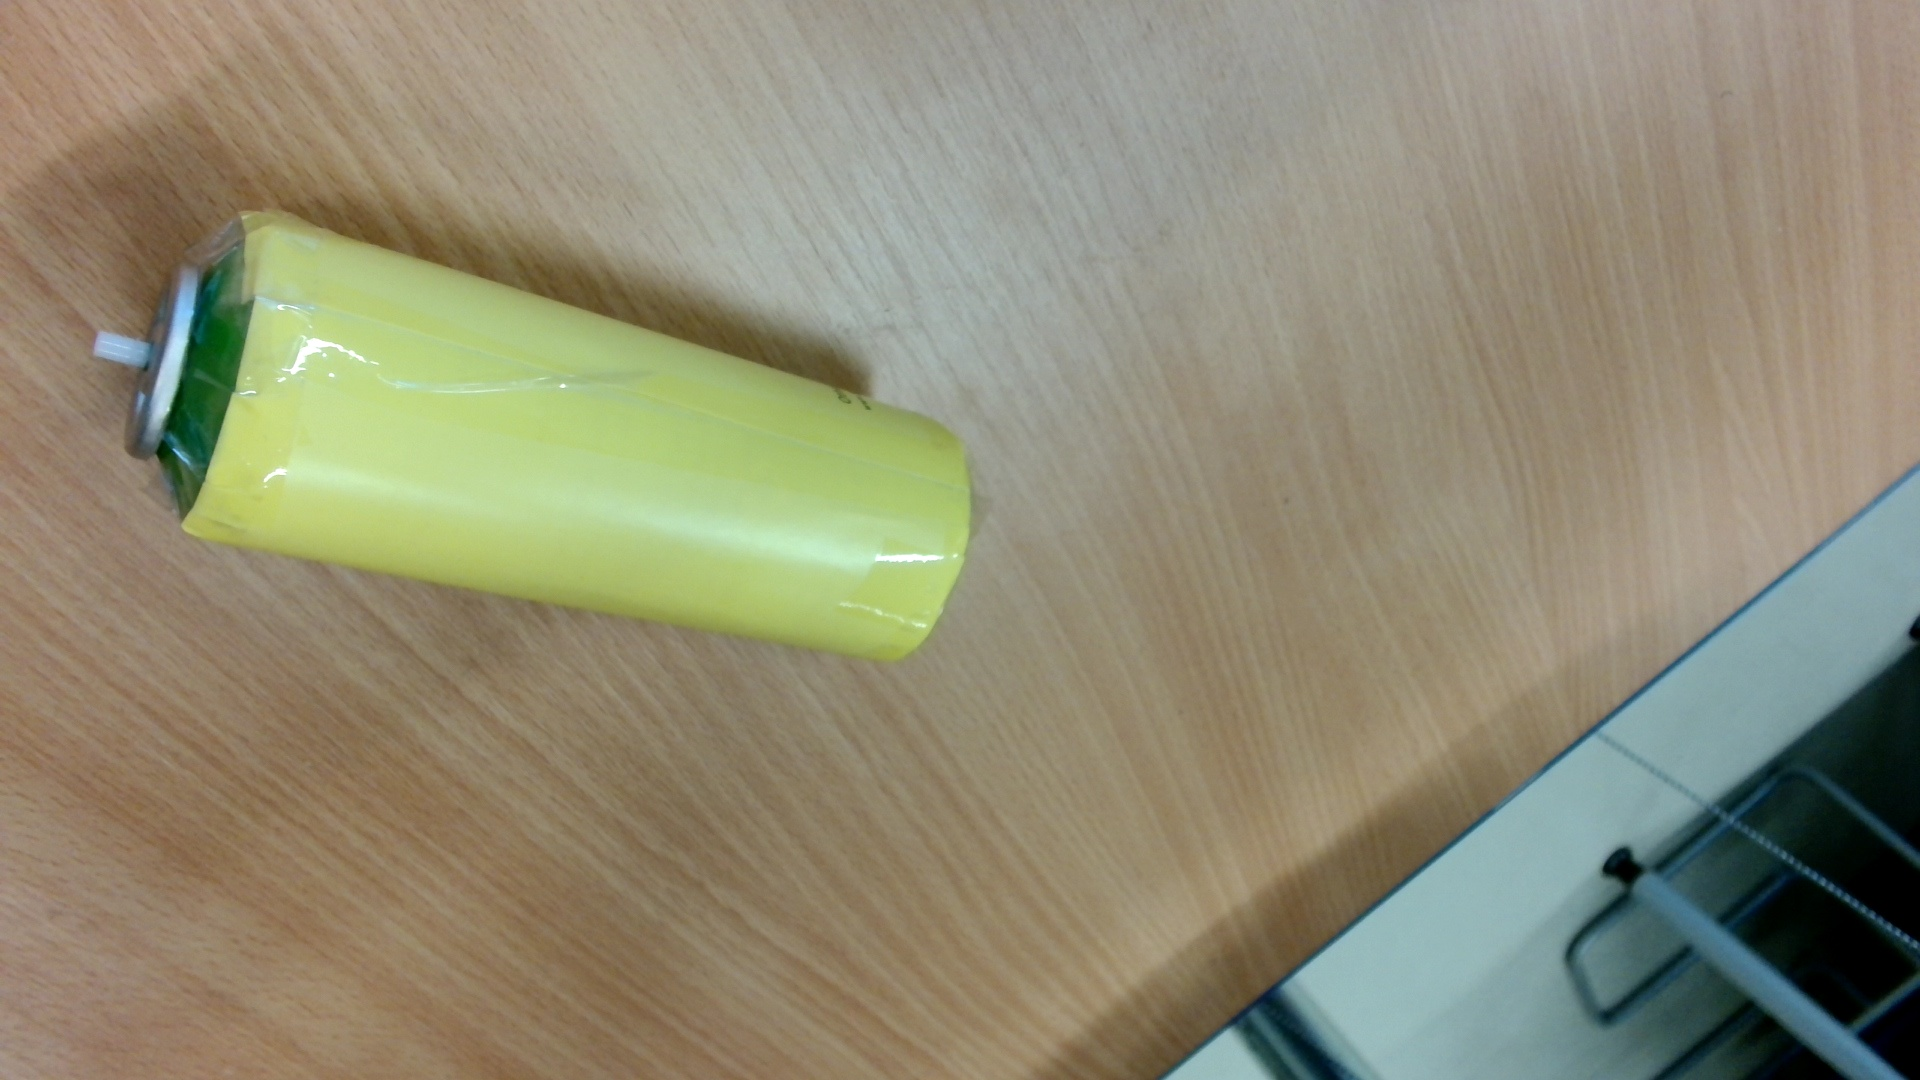Cylinder: (76, 199, 984, 673)
